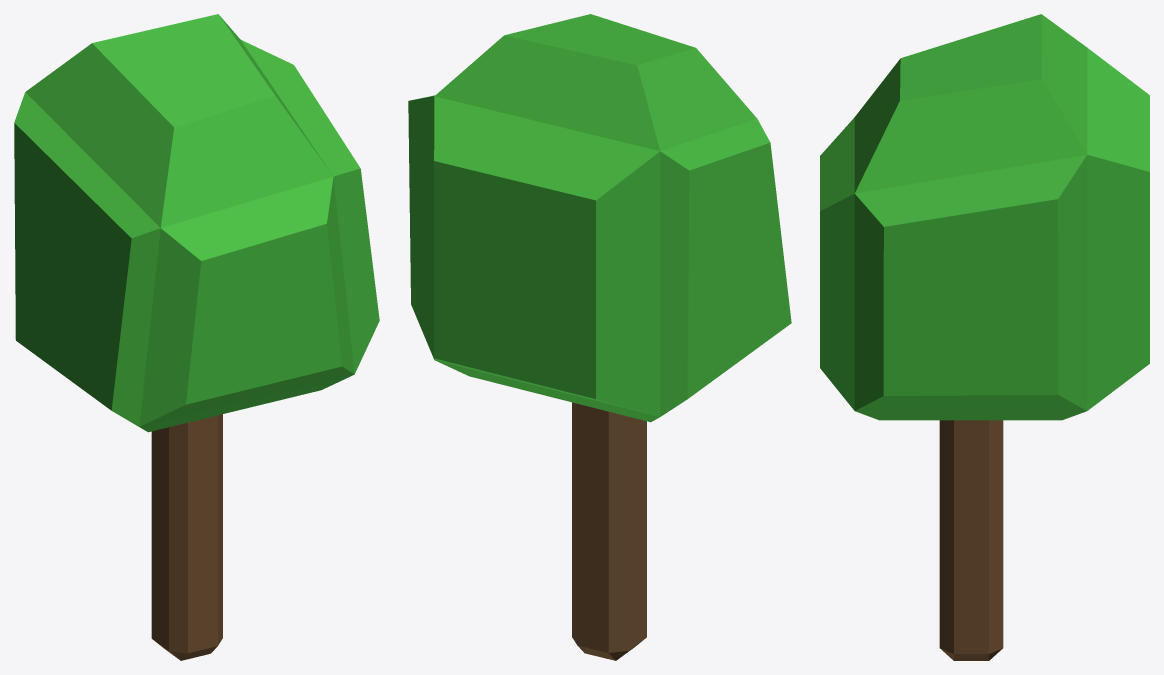
Rendered from tree.fbx.
3 renders of one model, left to right at view 1: azimuth 30°, elevation 25°; view 2: azimuth 150°, elevation 25°; view 3: azimuth 270°, elevation 25°, orthographic. The views are drawn at different scales.
Parts seen in each view (by area): view 1: Cube; view 2: Cube; view 3: Cube.
Boxes of the visible parts, <box> form: Cube: <box>14,14,379,660</box>; Cube: <box>408,14,791,660</box>; Cube: <box>820,14,1149,660</box>.
Bounding box in the file's own units: 1011 × 2107 × 1034.
